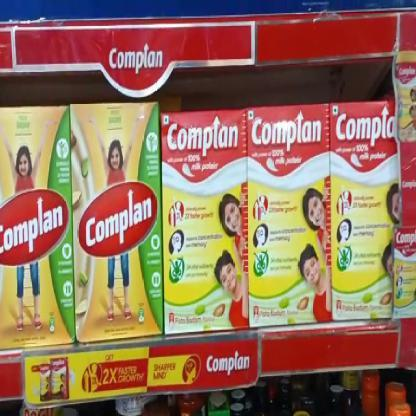Complan Pista Badam: (71, 102, 162, 340), (162, 108, 247, 332), (248, 104, 332, 326), (0, 106, 72, 345), (332, 100, 401, 321)
